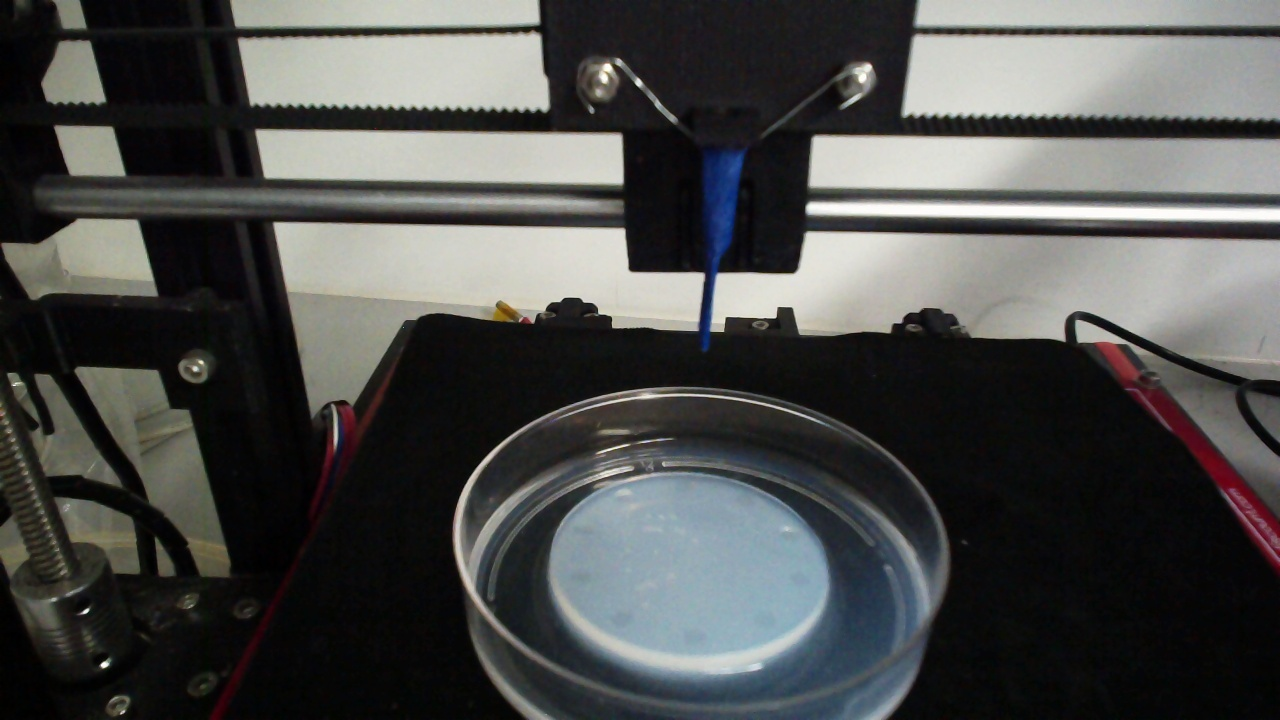groove: (610, 610, 638, 630), (753, 610, 778, 631), (566, 568, 592, 588), (683, 628, 708, 648), (778, 524, 803, 542), (569, 521, 596, 537), (788, 570, 811, 588), (673, 479, 695, 495), (615, 487, 636, 503), (733, 493, 756, 507)
needle: (700, 151, 743, 349)
